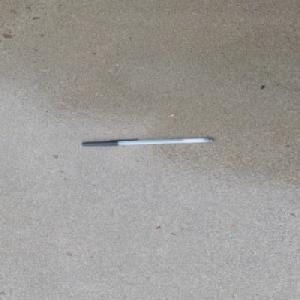Pen: (81, 137, 214, 146)
